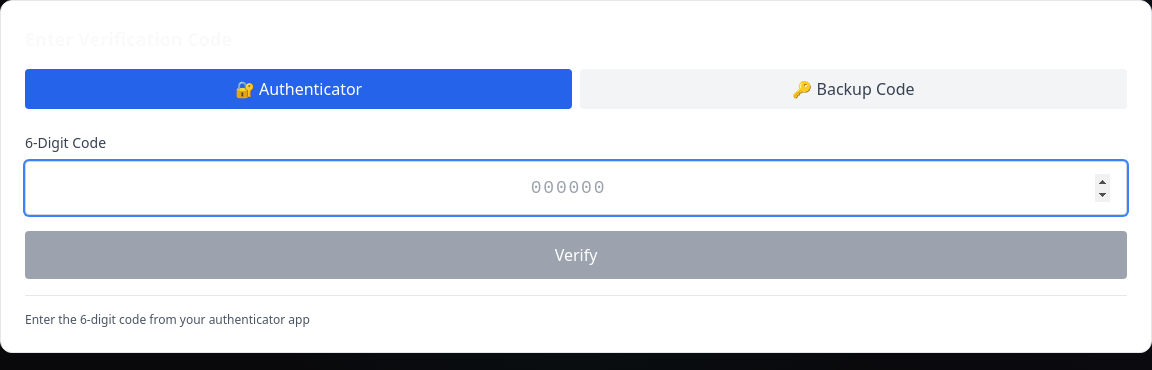
Test: VerifyCodeInput Component › Backup Code Input Validation › should have backup code placeholder text
Click the button "🔑 Backup Code" at [854, 89], box [580,69,1127,109]
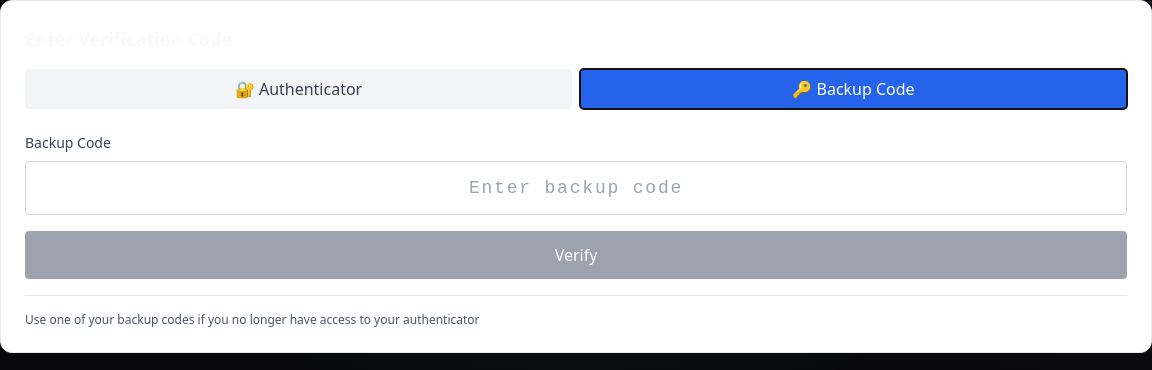
Now the field with placeholder "Enter backup code" is shown, box [25,161,1127,215]
